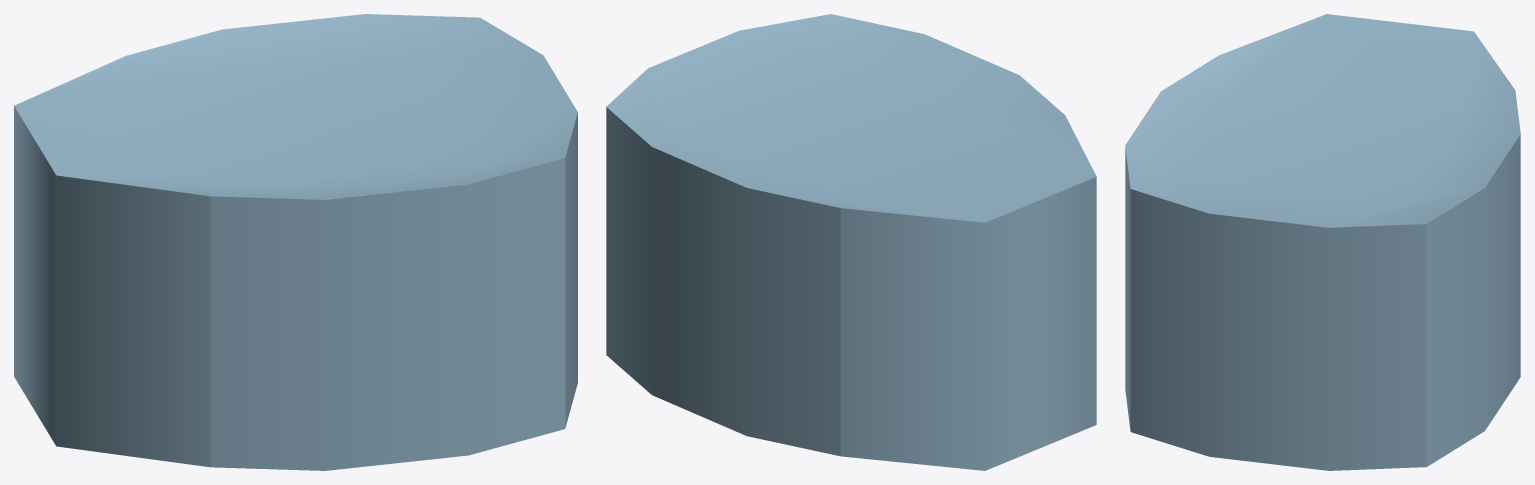
The model's file is terrain_W2lakea.fbx.
3 renders of one model, left to right at view 1: azimuth 30°, elevation 25°; view 2: azimuth 150°, elevation 25°; view 3: azimuth 270°, elevation 25°, orthographic. The views are drawn at different scales.
Parts seen in each view (by area): view 1: W2A8a_mesh; view 2: W2A8a_mesh; view 3: W2A8a_mesh.
Part boxes in pixels (bbox=[...]): W2A8a_mesh: bbox=[14, 14, 577, 470]; W2A8a_mesh: bbox=[606, 14, 1096, 470]; W2A8a_mesh: bbox=[1125, 14, 1520, 470].
Size of the model in its own units: 8799 by 4665 by 6878.
